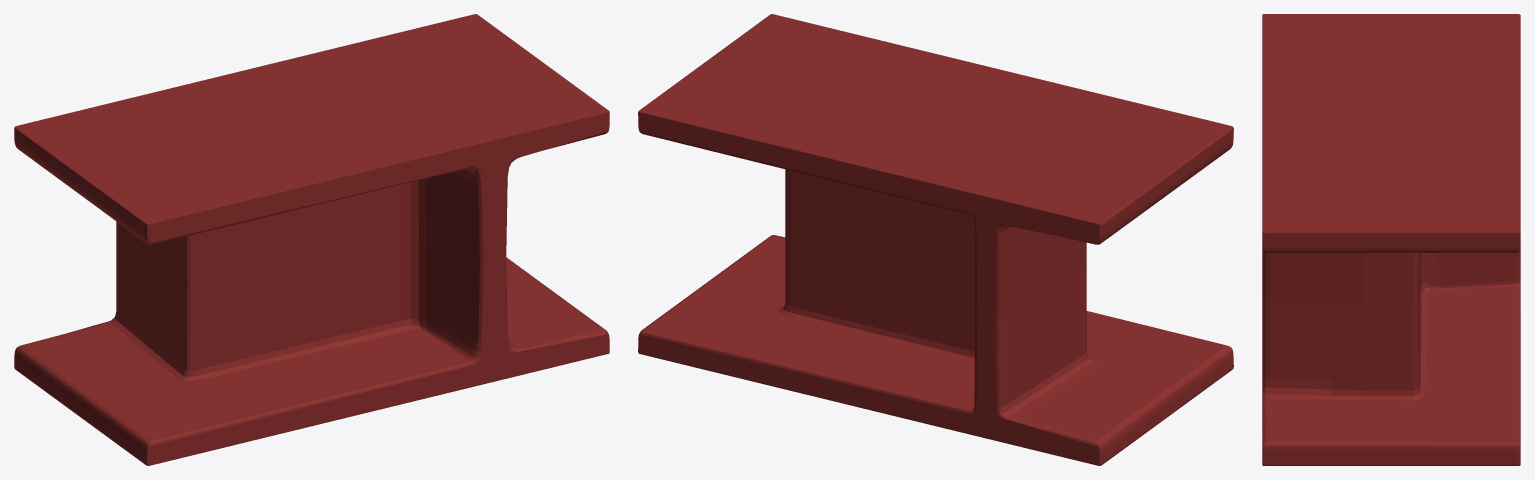
Rendered from steel_connector_rl.fbx.
3 views of the same model, side by side, from view 1: azimuth 30°, elevation 25°; view 2: azimuth 150°, elevation 25°; view 3: azimuth 270°, elevation 25° (orthographic). The views are drawn at different scales.
Visible parts, largest first — view 1: Cube.001; view 2: Cube.001; view 3: Cube.001.
Part boxes in pixels (left/top/right/bottom): Cube.001: left=14, top=14, right=609, bottom=465; Cube.001: left=638, top=14, right=1233, bottom=465; Cube.001: left=1262, top=14, right=1520, bottom=465.
Bounding box in the file's own units: 200 × 99.85 × 99.8.
